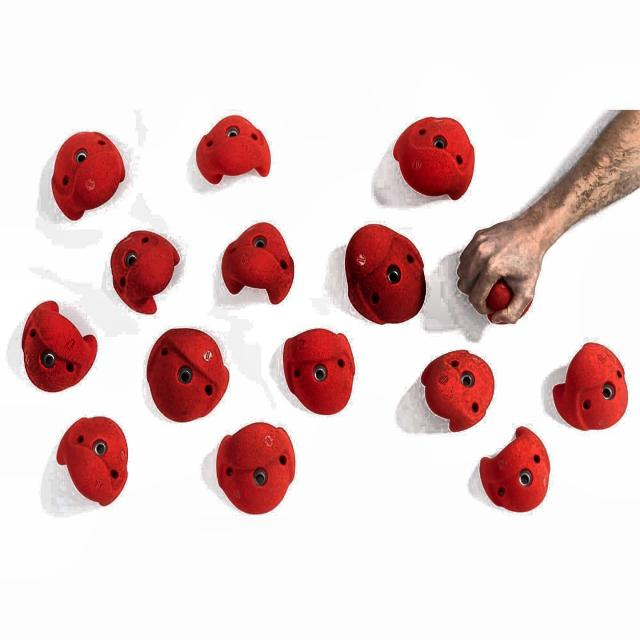Hold: (347, 221, 430, 321), (21, 298, 101, 397), (148, 328, 230, 422), (390, 112, 475, 201), (50, 412, 129, 505), (417, 347, 492, 435), (53, 133, 129, 219), (219, 426, 295, 512), (220, 218, 292, 306), (283, 328, 353, 415), (554, 346, 626, 430), (106, 226, 175, 310), (197, 110, 274, 182), (481, 428, 547, 512)
